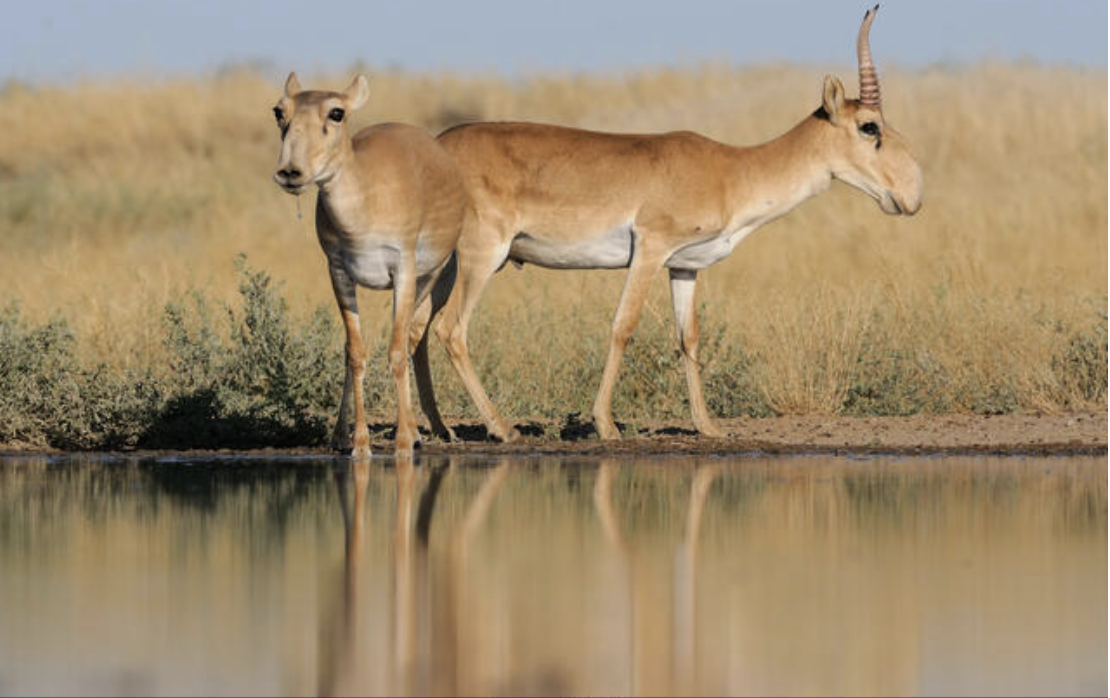saiga: (425, 2, 933, 441), (260, 76, 471, 458)
